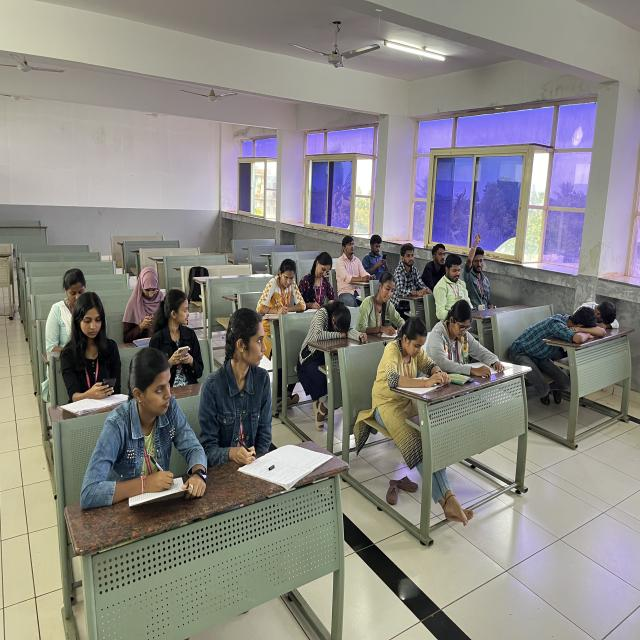Hand Rising: (464, 226, 492, 314)
Reading: (420, 297, 515, 386), (370, 318, 454, 401)
Sleeping: (296, 298, 368, 394)
Using Phone: (62, 291, 131, 403), (151, 290, 203, 390), (122, 263, 169, 345), (435, 253, 475, 317), (362, 231, 396, 274)
Writing: (76, 342, 206, 509), (192, 300, 298, 469), (300, 243, 353, 318), (358, 266, 411, 338), (260, 253, 305, 322)
